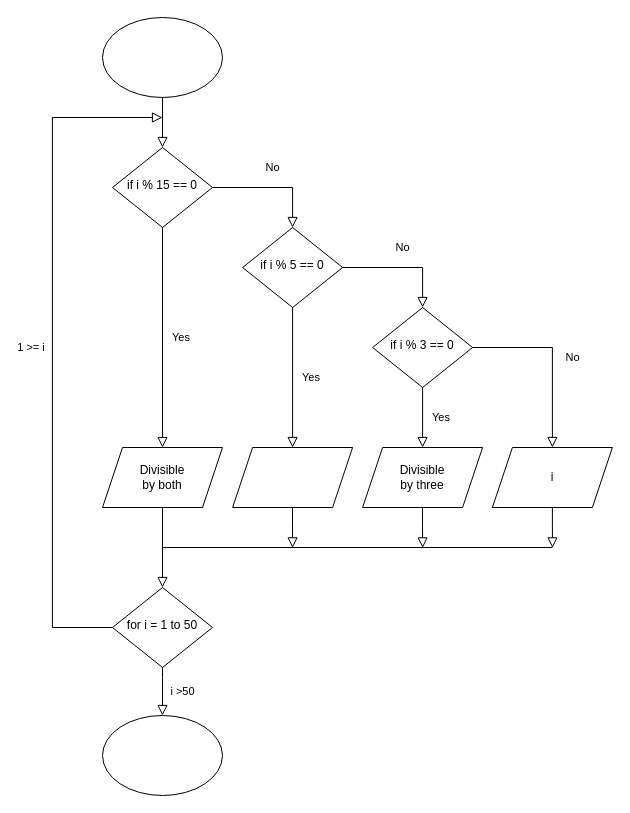
Some shapes in this 630 by 813 pixel diagram are drawn without their labels. Each missing label, with the box of its shape:
Divisible by five: (232, 446, 353, 508)
End: (102, 714, 222, 796)
Start: (102, 16, 222, 98)
